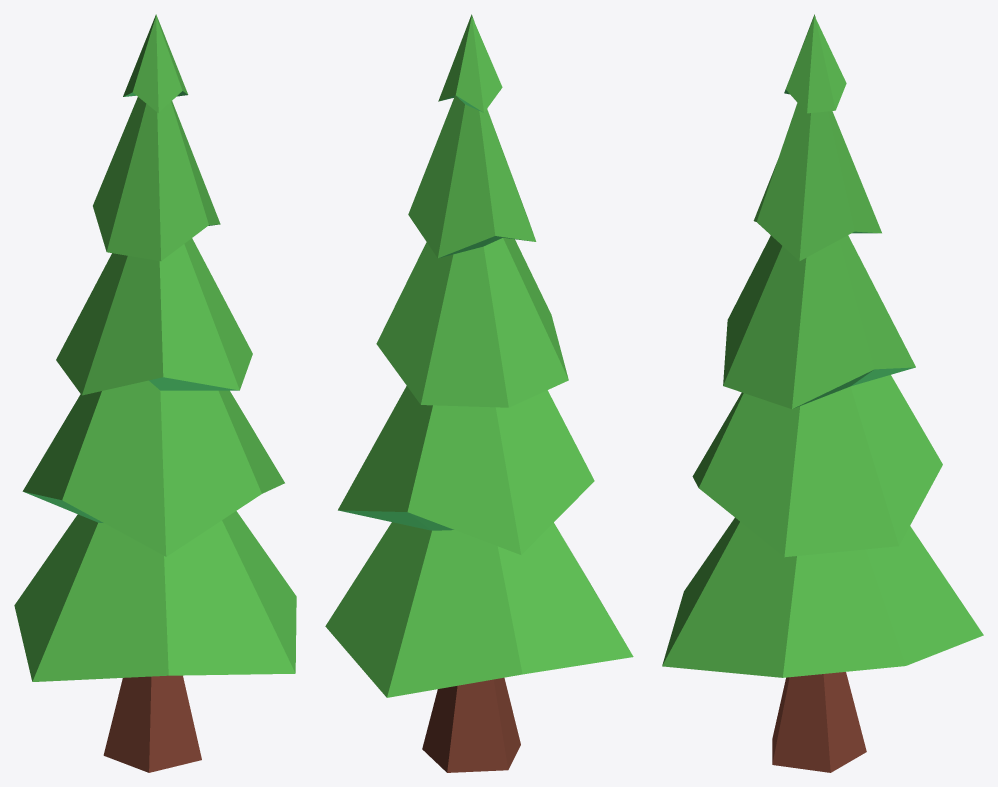
Rendered from aga.gltf.
The picture shows the model from 3 angles, left to right: view 1: azimuth 30°, elevation 25°; view 2: azimuth 150°, elevation 25°; view 3: azimuth 270°, elevation 25°; orthographic projection.
Parts seen in each view (by area): view 1: Cylinder, Cylinder.001; view 2: Cylinder, Cylinder.001; view 3: Cylinder, Cylinder.001.
Part boxes in pixels (<box>): Cylinder: <box>14,14,296,681</box>; Cylinder.001: <box>103,675,201,772</box>; Cylinder: <box>325,14,633,697</box>; Cylinder.001: <box>422,677,520,772</box>; Cylinder: <box>662,14,983,677</box>; Cylinder.001: <box>772,672,866,772</box>.
Size of the model in its own units: 2.54 by 6.7 by 2.65.
Materials: 1 (1 with a texture image).
